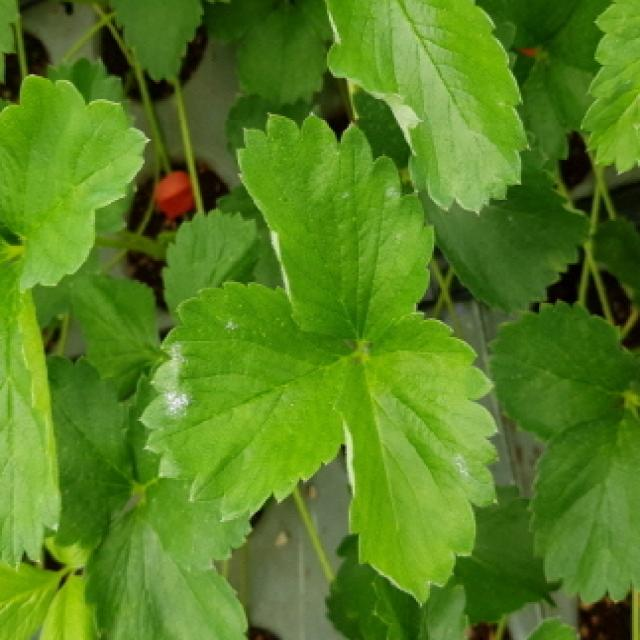Powdery Mildew Leaf: (138, 278, 363, 525), (330, 309, 504, 607), (232, 111, 438, 346), (322, 0, 533, 216)
